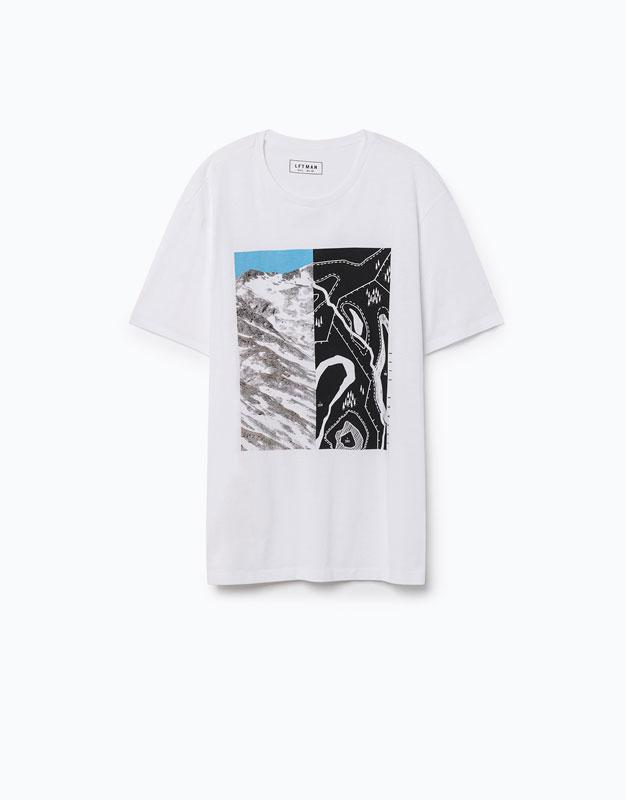teeshirt: (96, 123, 519, 664)
